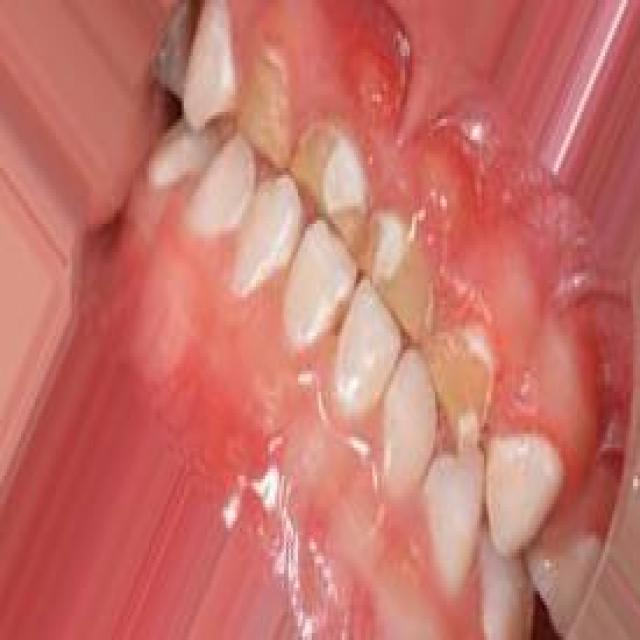caries: (417, 311, 495, 446), (292, 115, 365, 259), (368, 203, 432, 338), (238, 32, 293, 174), (146, 1, 194, 100)
